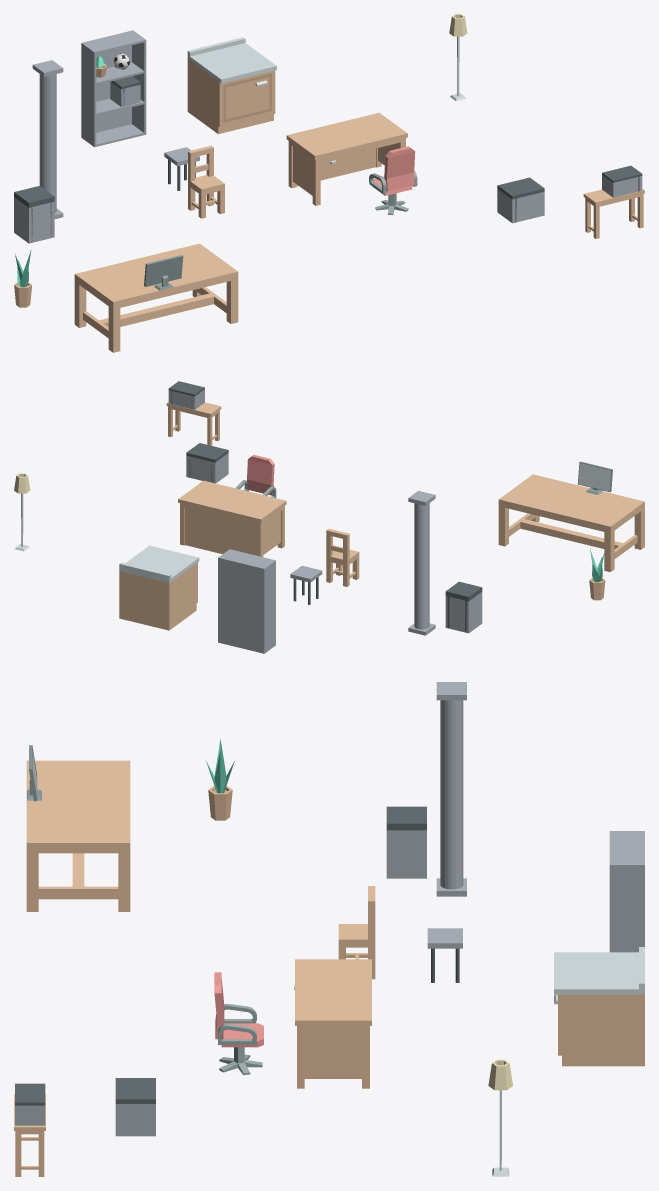
The picture shows the model from 3 angles, top to bottom: view 1: azimuth 30°, elevation 25°; view 2: azimuth 150°, elevation 25°; view 3: azimuth 270°, elevation 25°; orthographic projection. The views are drawn at different scales.
Parts seen in each view (by area): view 1: table_green__table(Clone), desk_blue__desk(Clone), cabinet_blue__kitchenCabinet(Clone), column_cyan__column_cyan shaft, cabinet_blue__door, chair_cyan__chair(Clone), deskchair_black__chair, shelf_orange__shelf_orange side_l, bin_gray__bin_gray shell, sidetable_brown__sideTable(Clone), shelf_orange__shelf_orange back, crate_red__crate_red shell (+10 smaller); view 2: table_green__table(Clone), desk_blue__desk(Clone), cabinet_blue__kitchenCabinet(Clone), shelf_orange__shelf_orange back, column_cyan__column_cyan shaft, chair_cyan__chair(Clone), shelf_orange__shelf_orange side_l, bin_gray__bin_gray shell, deskchair_black__chair, sidetable_brown__sideTable(Clone), crate_red__crate_red shell, monitor_gray__computerScreen(Clone) (+5 smaller); view 3: table_green__table(Clone), cabinet_blue__kitchenCabinet(Clone), desk_blue__desk(Clone), column_cyan__column_cyan shaft, shelf_orange__shelf_orange side_r, bin_gray__bin_gray shell, deskchair_black__chair, chair_cyan__chair(Clone), crate_red__crate_red shell, sidetable_brown__sideTable(Clone), shelf_orange__shelf_orange board3, lamp_white__lampRoundFloor(Clone) (+5 smaller).
Part boxes in pixels (<box>): table_green__table(Clone): <box>74,243,238,352</box>; desk_blue__desk(Clone): <box>286,112,407,205</box>; cabinet_blue__kitchenCabinet(Clone): <box>187,37,276,133</box>; column_cyan__column_cyan shaft: <box>39,74,56,213</box>; cabinet_blue__door: <box>223,73,271,122</box>; chair_cyan__chair(Clone): <box>188,145,224,218</box>; deskchair_black__chair: <box>369,146,417,195</box>; shelf_orange__shelf_orange side_l: <box>81,42,96,147</box>; bin_gray__bin_gray shell: <box>14,197,54,243</box>; sidetable_brown__sideTable(Clone): <box>583,189,644,238</box>; shelf_orange__shelf_orange back: <box>83,31,131,132</box>; crate_red__crate_red shell: <box>497,189,544,223</box>; table_green__table(Clone): <box>498,474,644,571</box>; desk_blue__desk(Clone): <box>178,480,286,556</box>; cabinet_blue__kitchenCabinet(Clone): <box>119,545,199,630</box>; shelf_orange__shelf_orange back: <box>219,557,262,653</box>; column_cyan__column_cyan shaft: <box>414,503,429,629</box>; chair_cyan__chair(Clone): <box>326,529,359,586</box>; shelf_orange__shelf_orange side_l: <box>262,560,275,653</box>; bin_gray__bin_gray shell: <box>445,592,482,633</box>; deskchair_black__chair: <box>235,455,276,497</box>; sidetable_brown__sideTable(Clone): <box>166,402,221,445</box>; crate_red__crate_red shell: <box>186,453,228,483</box>; monitor_gray__computerScreen(Clone): <box>578,461,612,494</box>; table_green__table(Clone): <box>26,760,130,911</box>; cabinet_blue__kitchenCabinet(Clone): <box>554,947,644,1066</box>; desk_blue__desk(Clone): <box>295,959,371,1088</box>; column_cyan__column_cyan shaft: <box>440,700,463,889</box>; shelf_orange__shelf_orange side_r: <box>609,863,644,952</box>; bin_gray__bin_gray shell: <box>386,830,426,878</box>; deskchair_black__chair: <box>214,972,263,1047</box>; chair_cyan__chair(Clone): <box>338,886,375,979</box>; crate_red__crate_red shell: <box>115,1104,155,1136</box>; sidetable_brown__sideTable(Clone): <box>14,1094,45,1176</box>; shelf_orange__shelf_orange board3: <box>609,832,642,863</box>; lamp_white__lampRoundFloor(Clone): <box>488,1059,512,1176</box>.
Size of the model in its own units: 8.56 by 2.2 by 6.24.
